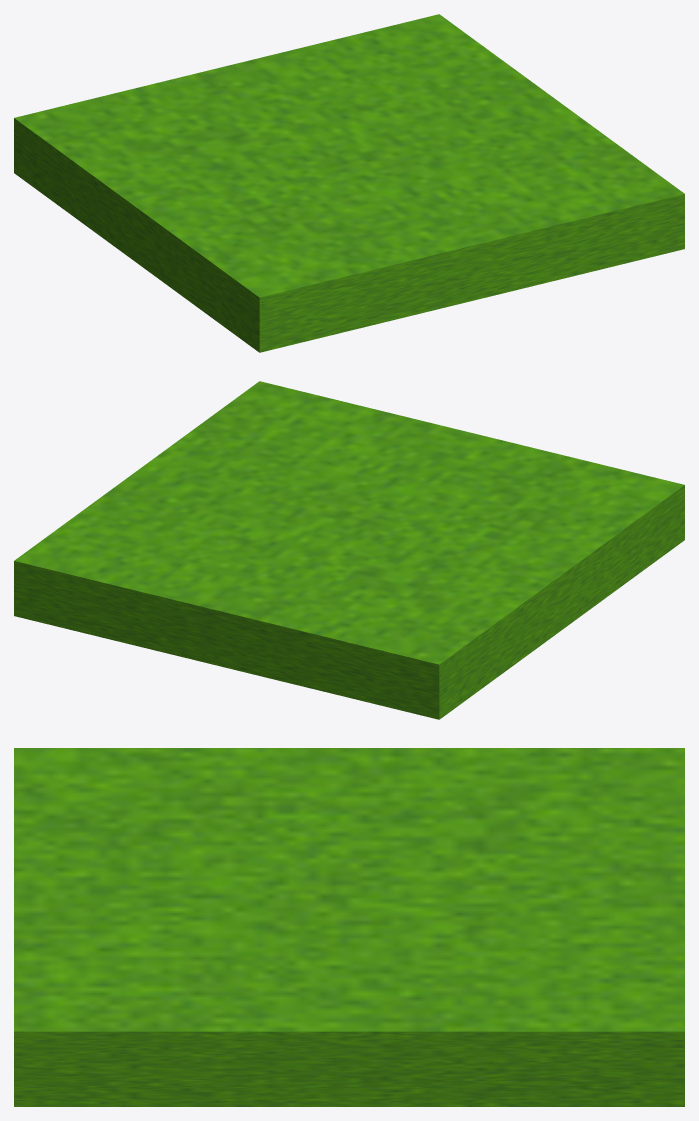
Rendered from sgrass.fbx.
3 views of the same model, one above another, from view 1: azimuth 30°, elevation 25°; view 2: azimuth 150°, elevation 25°; view 3: azimuth 270°, elevation 25° (orthographic). The views are drawn at different scales.
Visible parts, largest first — view 1: pCube2; view 2: pCube2; view 3: pCube2.
Part boxes in pixels (x1,y1,x2,y2): pCube2: (14,14,684,352); pCube2: (14,381,684,719); pCube2: (14,748,684,1106).
Bounding box in the file's own units: 1 × 0.1239 × 1.
